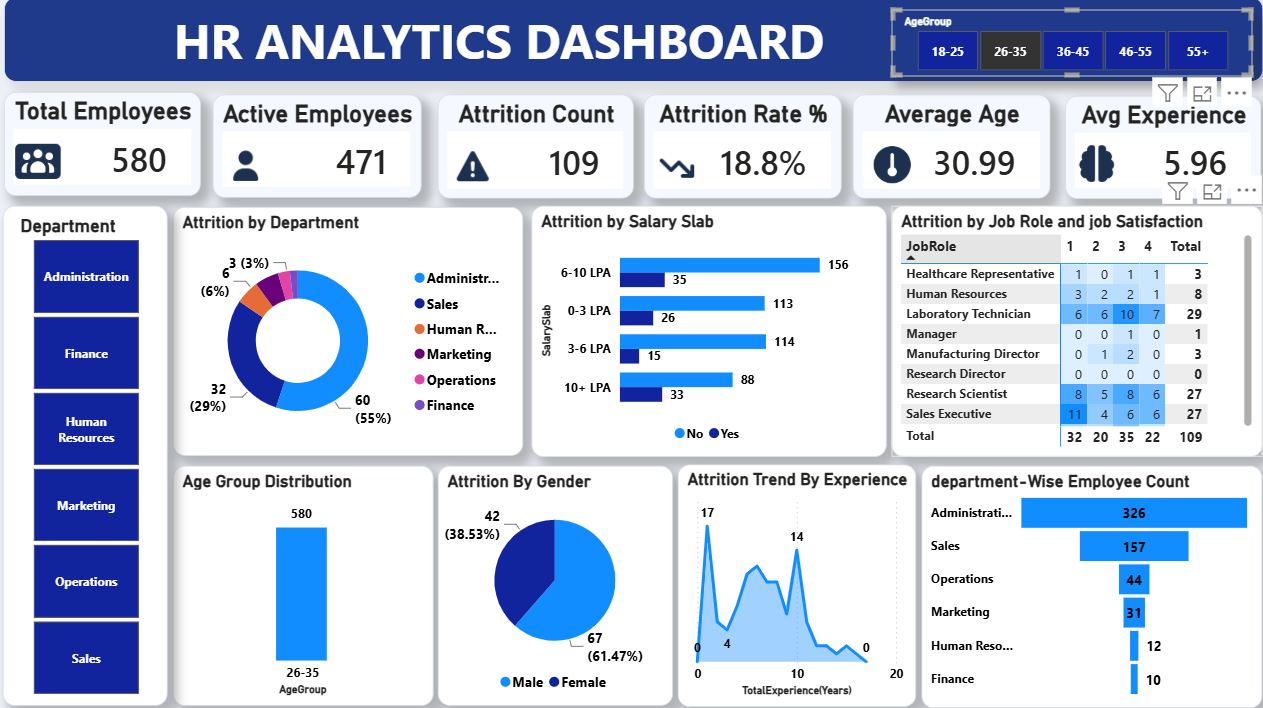

This screenshot's page, from the dashboard's own definition file:
{"tool":"powerbi","page":{"name":"Page 1","canvas":[1280,720],"ordinal":0},"visuals":[{"type":"textbox","box":[10,0,1259,85],"z":0},{"type":"cardVisual","title":"Total Employees","fields":{"Data":["CountNonNull(HR_Analytics-4.EmpID)"]},"box":[10,95,197,104],"z":1000},{"type":"cardVisual","title":"Active Employees","fields":{"Data":["CountNonNull(HR_Analytics-4.EmployeeCount)"]},"box":[218.2,97.4,208.6,102.9],"z":2000},{"type":"cardVisual","title":"Attrition Count","fields":{"Data":["Sum(HR_Analytics-4.AttritionCount)"]},"box":[443.2,97.4,196.2,104.3],"z":3000},{"type":"cardVisual","title":"Attrition Rate %","fields":{"Data":["HR_Analytics-4.Attrition Rate %"]},"box":[650.4,97.4,197.6,104.3],"z":4000},{"type":"cardVisual","title":"Average Age","fields":{"Data":["Avg(HR_Analytics-4.Age)"]},"box":[859,97.4,197.6,104.3],"z":5000},{"type":"cardVisual","title":"Avg Experience","fields":{"Data":["Avg(HR_Analytics-4.YearsatCompany)"]},"box":[1071.7,98.8,196.2,102.9],"z":6000},{"type":"donutChart","title":"Attrition by Department","fields":{"Category":["HR_Analytics-4.Department"],"Y":["Sum(HR_Analytics-4.AttritionCount)"]},"box":[179,210,350,249],"z":7000},{"type":"clusteredBarChart","title":"Attrition by Salary Slab","fields":{"Category":["HR_Analytics-4.SalarySlab"],"Y":["CountNonNull(HR_Analytics-4.EmpID)"],"Series":["HR_Analytics-4.Attrition"]},"box":[537,209,355,251],"z":8000},{"type":"pivotTable","title":"Attrition by Job Role and job Satisfaction","fields":{"Rows":["HR_Analytics-4.JobRole"],"Values":["Sum(HR_Analytics-4.AttritionCount)"],"Columns":["HR_Analytics-4.JobSatisfaction"]},"box":[898,209,371,251],"z":9000},{"type":"columnChart","title":"Age Group Distribution","fields":{"Y":["Sum(HR_Analytics-4.EmployeeCount)"],"Category":["HR_Analytics-4.AgeGroup"]},"box":[179,469,261,240],"z":10000},{"type":"pieChart","title":"Attrition By Gender","fields":{"Category":["HR_Analytics-4.Gender"],"Y":["Sum(HR_Analytics-4.AttritionCount)"]},"box":[443.8,468.8,235,240],"z":11000},{"type":"areaChart","title":"Attrition Trend By Experience","fields":{"Category":["HR_Analytics-4.TotalExperience(Years)"],"Y2":["Sum(HR_Analytics-4.AttritionCount)"]},"box":[684,468,238.8,242.5],"z":12000},{"type":"funnel","title":"department-Wise Employee Count","fields":{"Category":["HR_Analytics-4.Department"],"Y":["CountNonNull(HR_Analytics-4.EmpID)"]},"box":[928,469,341,242],"z":13000},{"type":"slicer","fields":{"Values":["HR_Analytics-4.Department"]},"box":[9,209,165,500],"z":14000},{"type":"slicer","fields":{"Values":["HR_Analytics-4.AgeGroup"]},"box":[898,12,361,68],"z":15000},{"type":"image","box":[231.2,140,52.5,48.8],"z":16000},{"type":"image","box":[25,127.5,66.2,71.2],"z":17000},{"type":"image","box":[457.5,144,52.5,48.8],"z":18000},{"type":"image","box":[662.5,142.5,52.5,48.8],"z":19000},{"type":"image","box":[875,142.5,52.5,48.8],"z":20000},{"type":"image","box":[1083.8,144,52.5,48.8],"z":21000}]}

Visuals, with their boxes in screenshot pixels (x1, y1, x2, y2), scaled from the page's 1280x720 canvas onto the 1263x708 screenshot:
textbox: bbox(10, 0, 1252, 84)
"Total Employees" cardVisual: bbox(10, 93, 204, 196)
"Active Employees" cardVisual: bbox(215, 96, 421, 197)
"Attrition Count" cardVisual: bbox(437, 96, 631, 198)
"Attrition Rate %" cardVisual: bbox(642, 96, 837, 198)
"Average Age" cardVisual: bbox(848, 96, 1043, 198)
"Avg Experience" cardVisual: bbox(1057, 97, 1251, 198)
"Attrition by Department" donutChart: bbox(177, 206, 522, 451)
"Attrition by Salary Slab" clusteredBarChart: bbox(530, 206, 880, 452)
"Attrition by Job Role and job Satisfaction" pivotTable: bbox(886, 206, 1252, 452)
"Age Group Distribution" columnChart: bbox(177, 461, 434, 697)
"Attrition By Gender" pieChart: bbox(438, 461, 670, 697)
"Attrition Trend By Experience" areaChart: bbox(675, 460, 911, 699)
"department-Wise Employee Count" funnel: bbox(916, 461, 1252, 699)
slicer - HR_Analytics-4.Department: bbox(9, 206, 172, 697)
slicer - HR_Analytics-4.AgeGroup: bbox(886, 12, 1242, 79)
image: bbox(228, 138, 280, 186)
image: bbox(25, 125, 90, 195)
image: bbox(451, 142, 503, 190)
image: bbox(654, 140, 706, 188)
image: bbox(863, 140, 915, 188)
image: bbox(1069, 142, 1121, 190)
